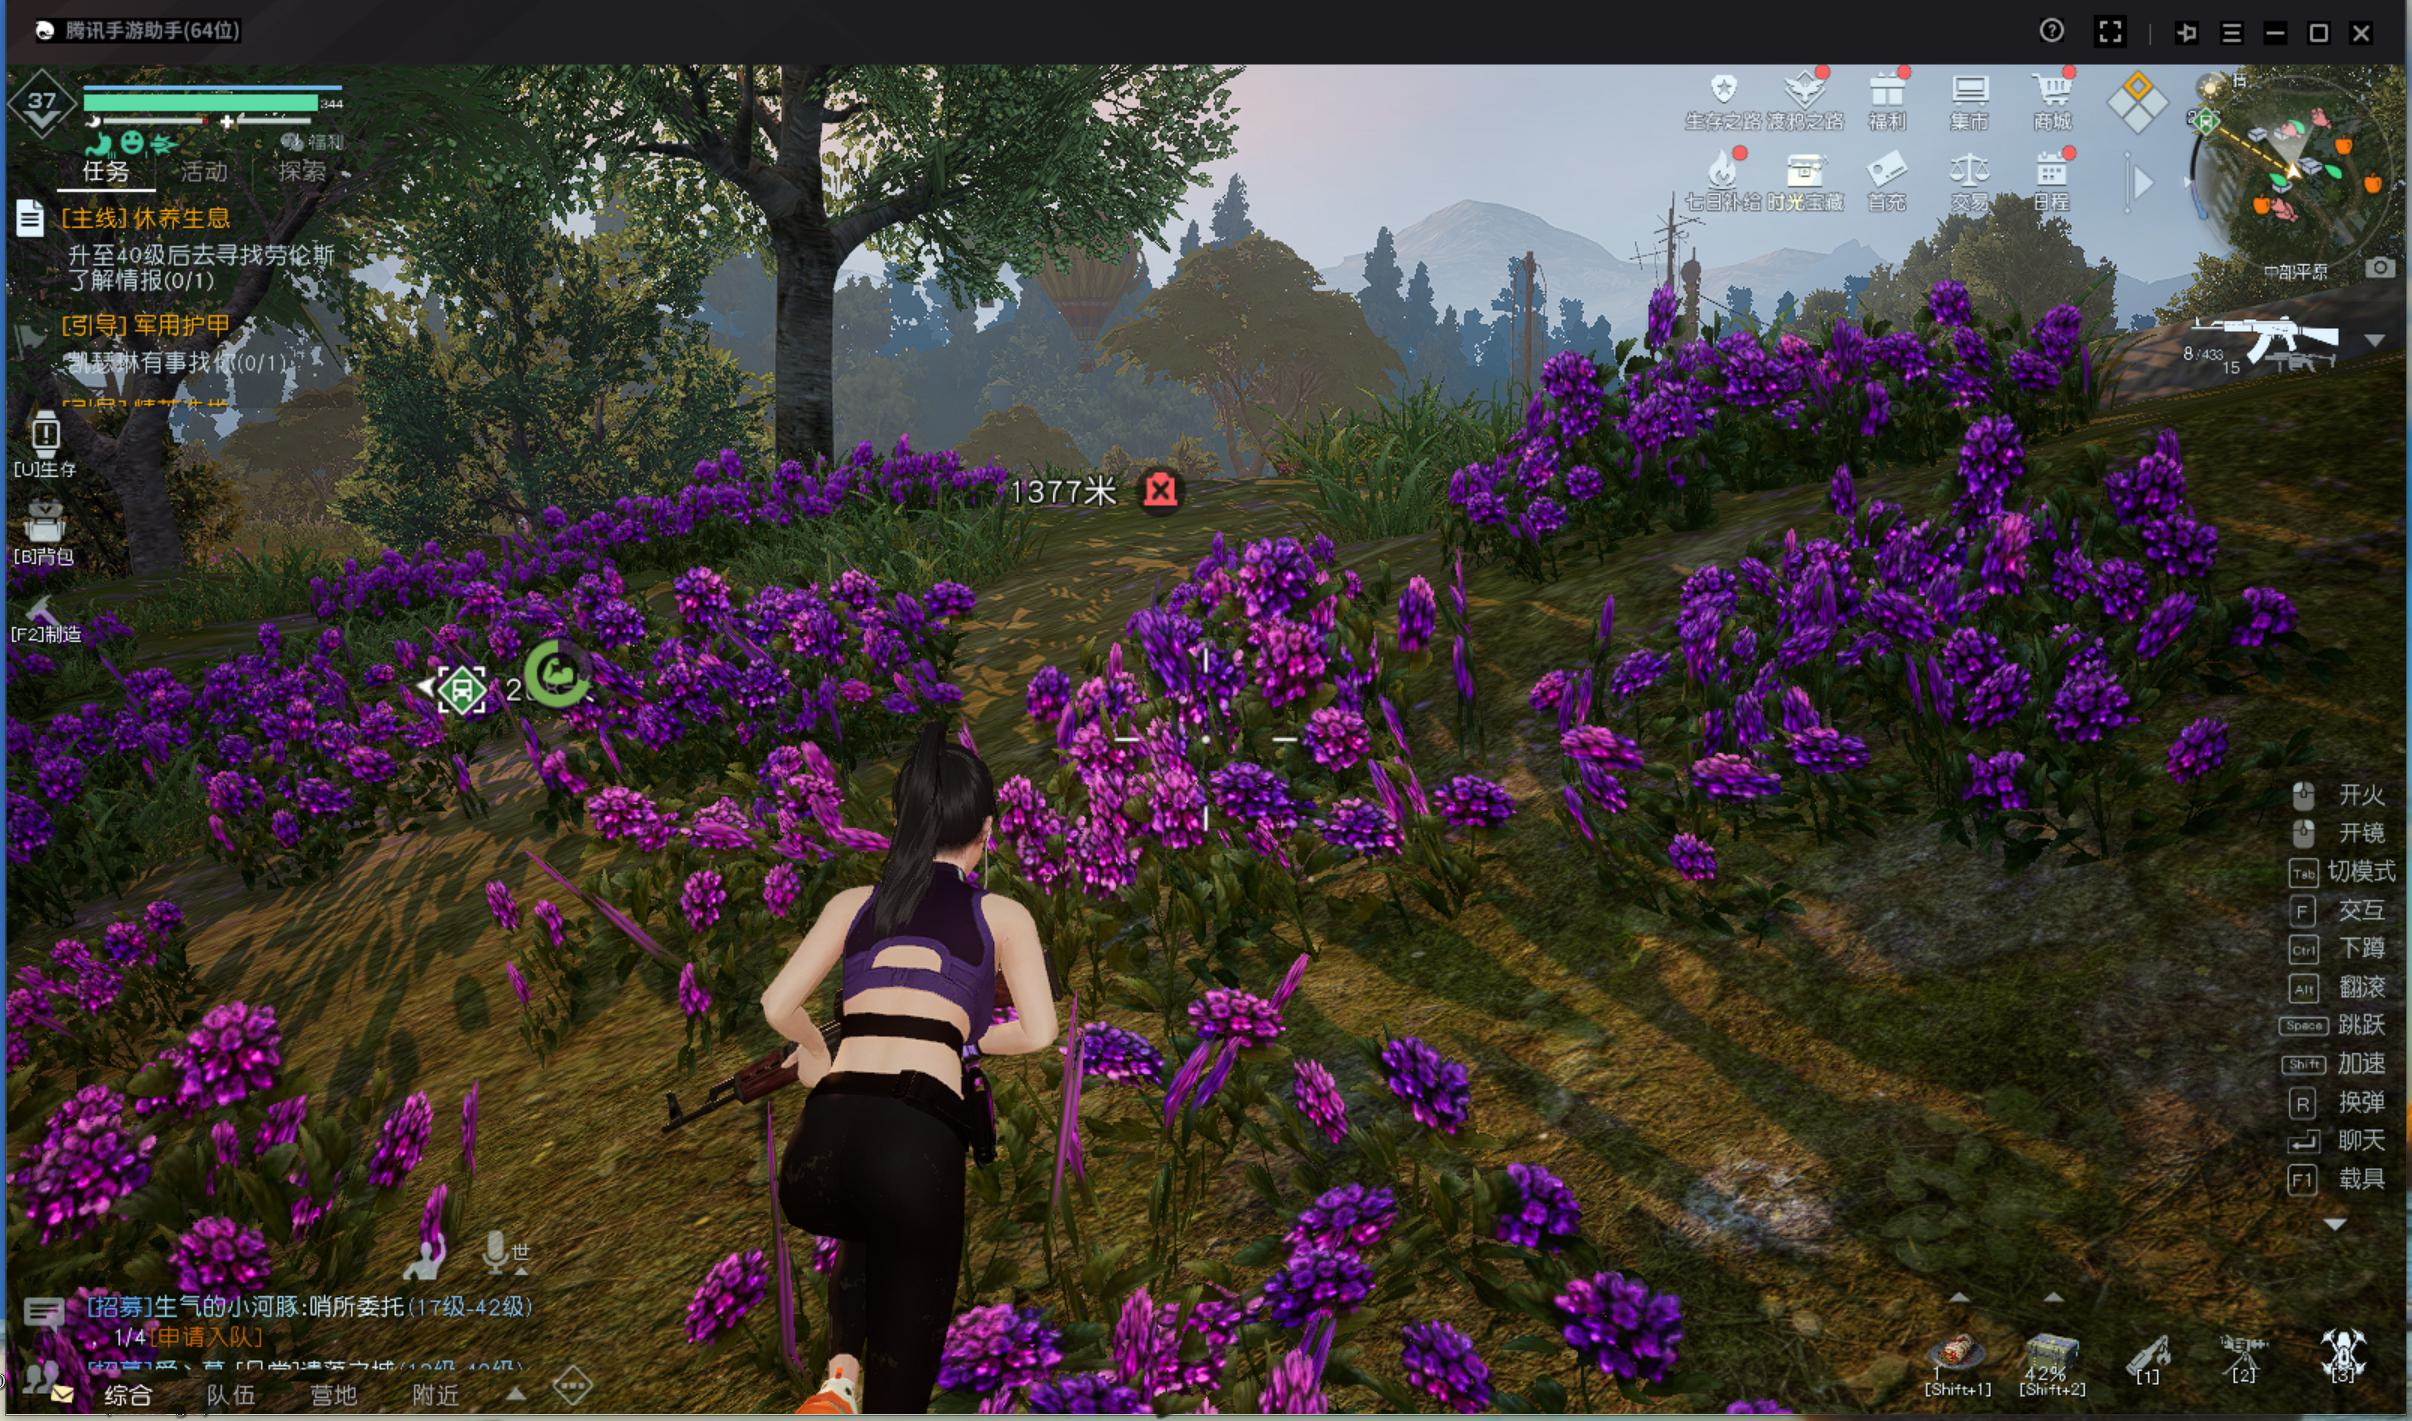tree: (749, 244, 868, 506)
